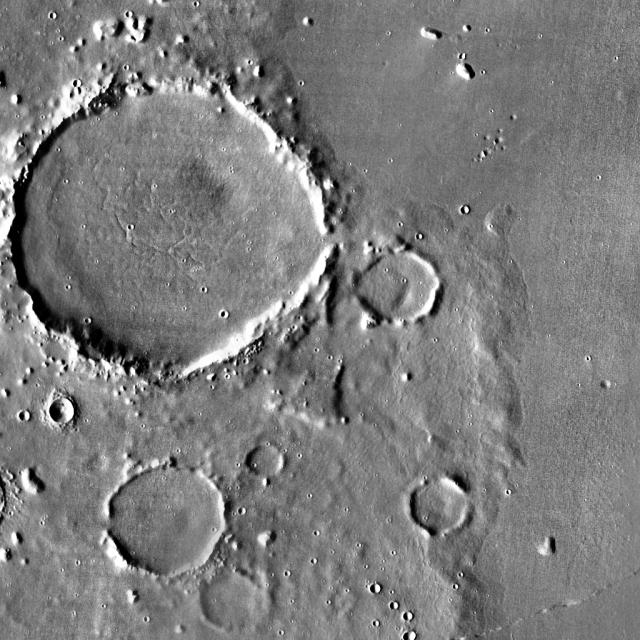crater: (15, 82, 327, 375), (110, 464, 228, 575), (359, 248, 442, 326), (202, 564, 272, 630), (412, 477, 475, 536), (250, 443, 286, 478), (48, 398, 76, 422), (404, 629, 416, 640), (371, 584, 382, 595), (23, 410, 33, 420), (404, 612, 414, 622), (602, 379, 612, 388), (460, 206, 470, 214), (390, 602, 400, 610), (220, 310, 229, 318), (460, 52, 468, 60), (372, 619, 379, 626), (76, 78, 83, 85), (238, 508, 245, 515), (416, 233, 423, 239), (122, 4, 128, 10), (46, 3, 53, 8)
